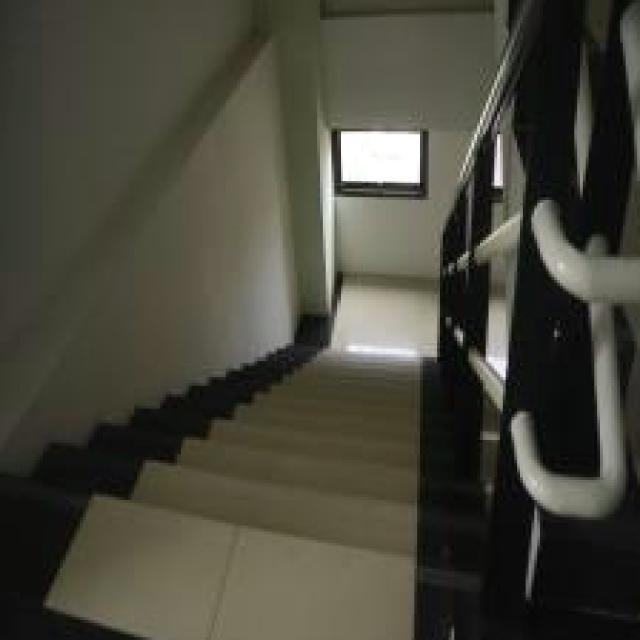downstair: (78, 344, 458, 640)
